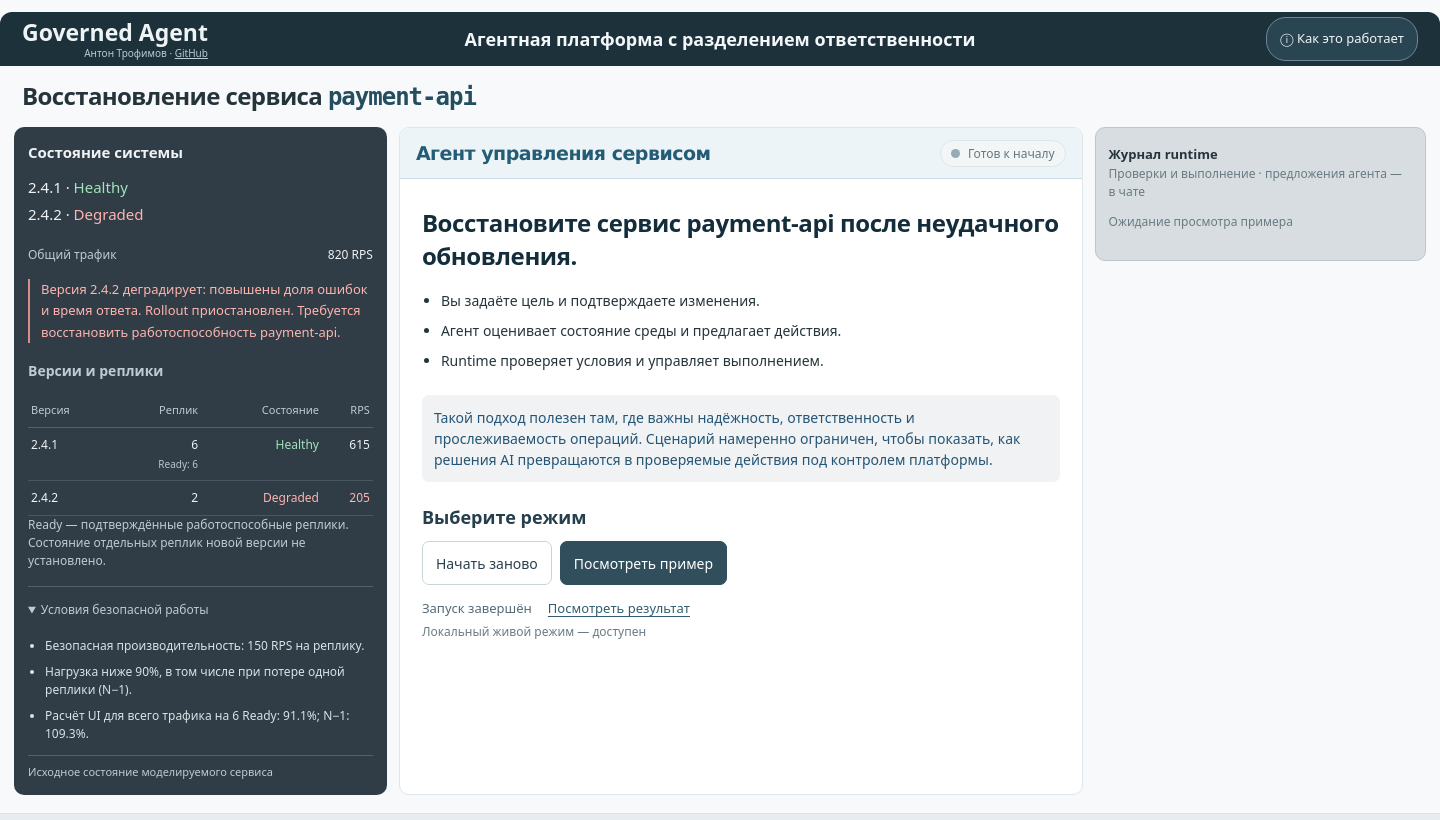
Test: preserves result access when another session wins admission before restart
Click the button "Начать заново": coordinates (487, 563) [422,541,552,585]
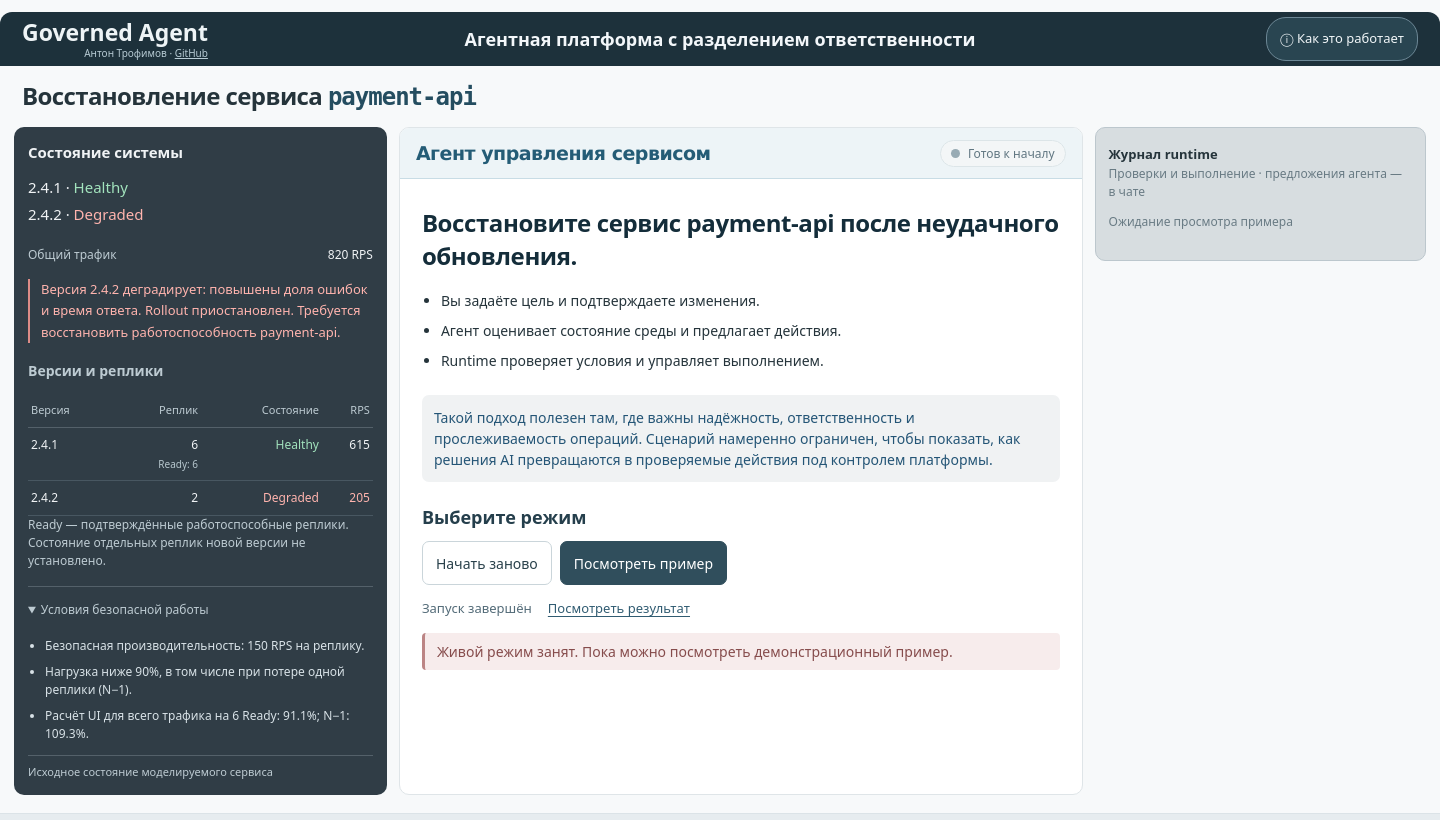
Expected: the button "Посмотреть результат" is shown, [548,595,690,623]
Expected: the text "Живой режим занят. Пока можно посмотреть демонстрационный пример." is shown, [422,633,1060,670]
